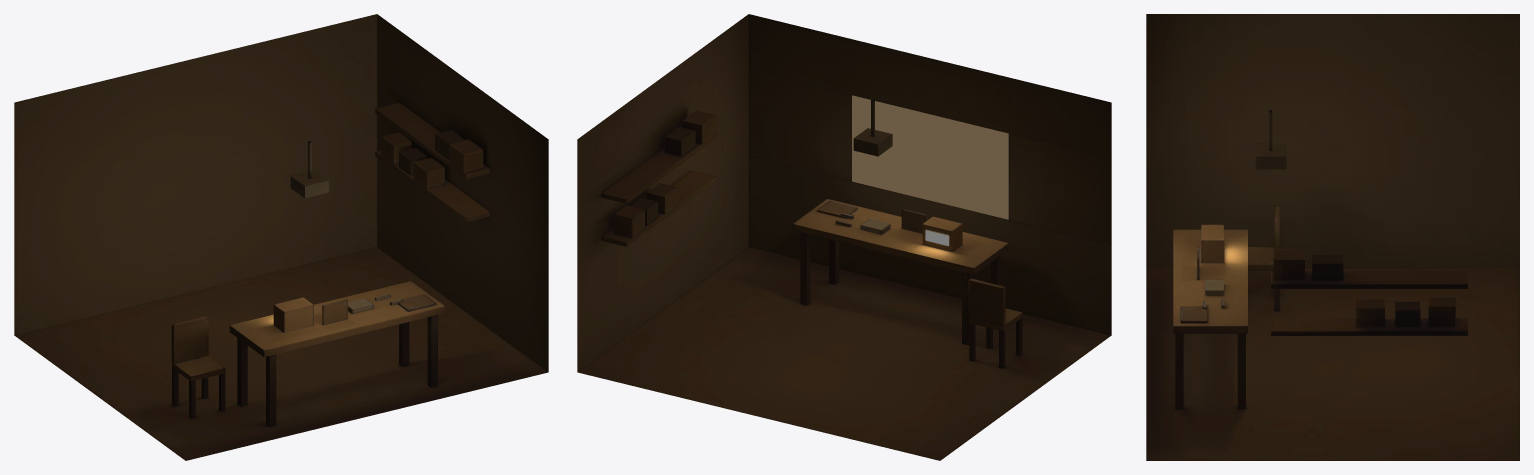
Rendered from era_radio.glb.
3 renders of one model, left to right at view 1: azimuth 30°, elevation 25°; view 2: azimuth 150°, elevation 25°; view 3: azimuth 270°, elevation 25°, orthographic. The views are drawn at different scales.
Visible parts, largest first — view 1: CH_era_radio_static; view 2: CH_era_radio_static; view 3: CH_era_radio_static.
Boxes of the visible parts, x1,y1,x2,y2 form: CH_era_radio_static: (14, 14, 548, 460); CH_era_radio_static: (577, 14, 1111, 460); CH_era_radio_static: (1146, 14, 1519, 460).
Bounding box in the file's own units: 4.4 × 2.7 × 3.66.
Materials: 1 (1 with a texture image).
